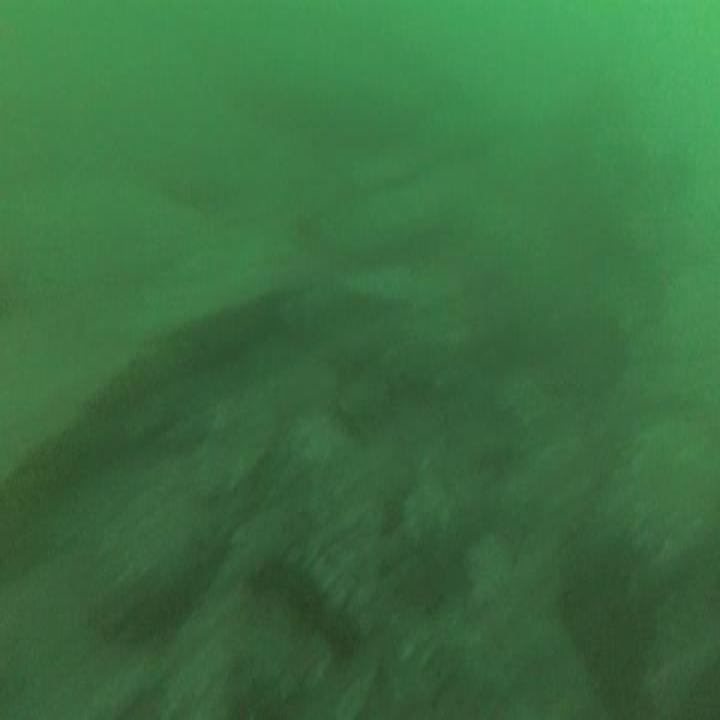holothurian: (247, 544, 363, 656)
